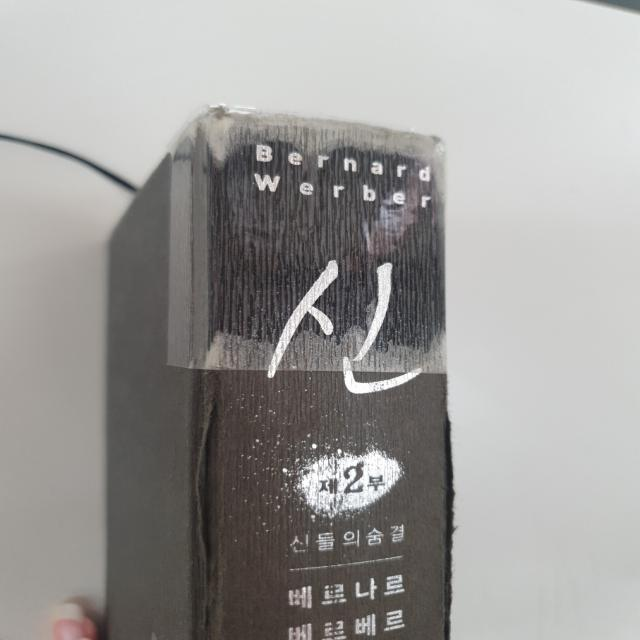Ripped: (430, 374, 486, 639), (184, 376, 240, 639)
